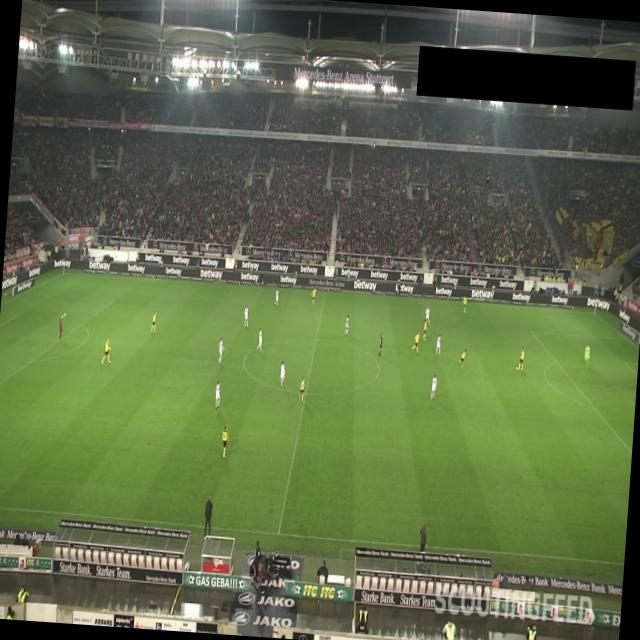ball: (514, 364, 518, 372)
goalkeeper: (57, 311, 65, 340), (582, 342, 590, 368)
player: (220, 424, 230, 458), (101, 336, 113, 364), (456, 347, 467, 370), (410, 329, 420, 354), (214, 379, 222, 409), (429, 372, 437, 400), (278, 360, 286, 388), (256, 326, 264, 352), (517, 346, 525, 370), (298, 376, 305, 402), (150, 310, 158, 332), (242, 305, 250, 327), (217, 337, 224, 362), (423, 305, 431, 326), (422, 318, 428, 342), (344, 314, 350, 336), (435, 333, 441, 355), (310, 286, 316, 306), (462, 294, 468, 314), (274, 288, 280, 306)
referee: (378, 332, 383, 358), (259, 270, 265, 287)
